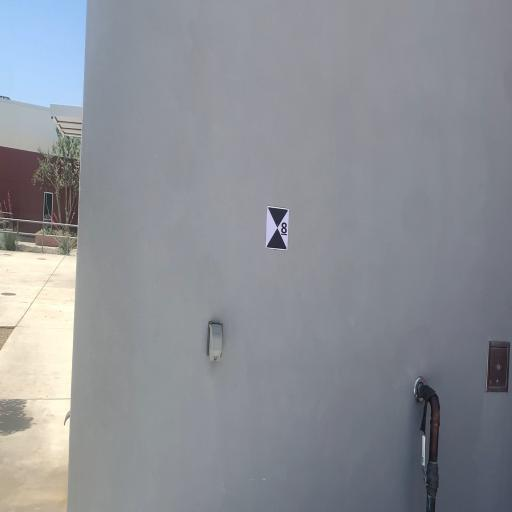target8: (263, 205, 290, 251)
